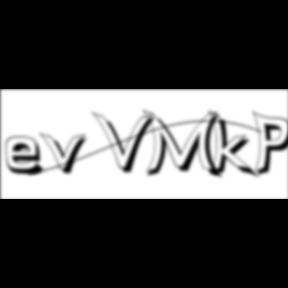M: (142, 108, 226, 181)
V: (92, 110, 160, 176)
e: (6, 135, 52, 178)
k: (208, 108, 262, 181)
v: (40, 131, 94, 177)
